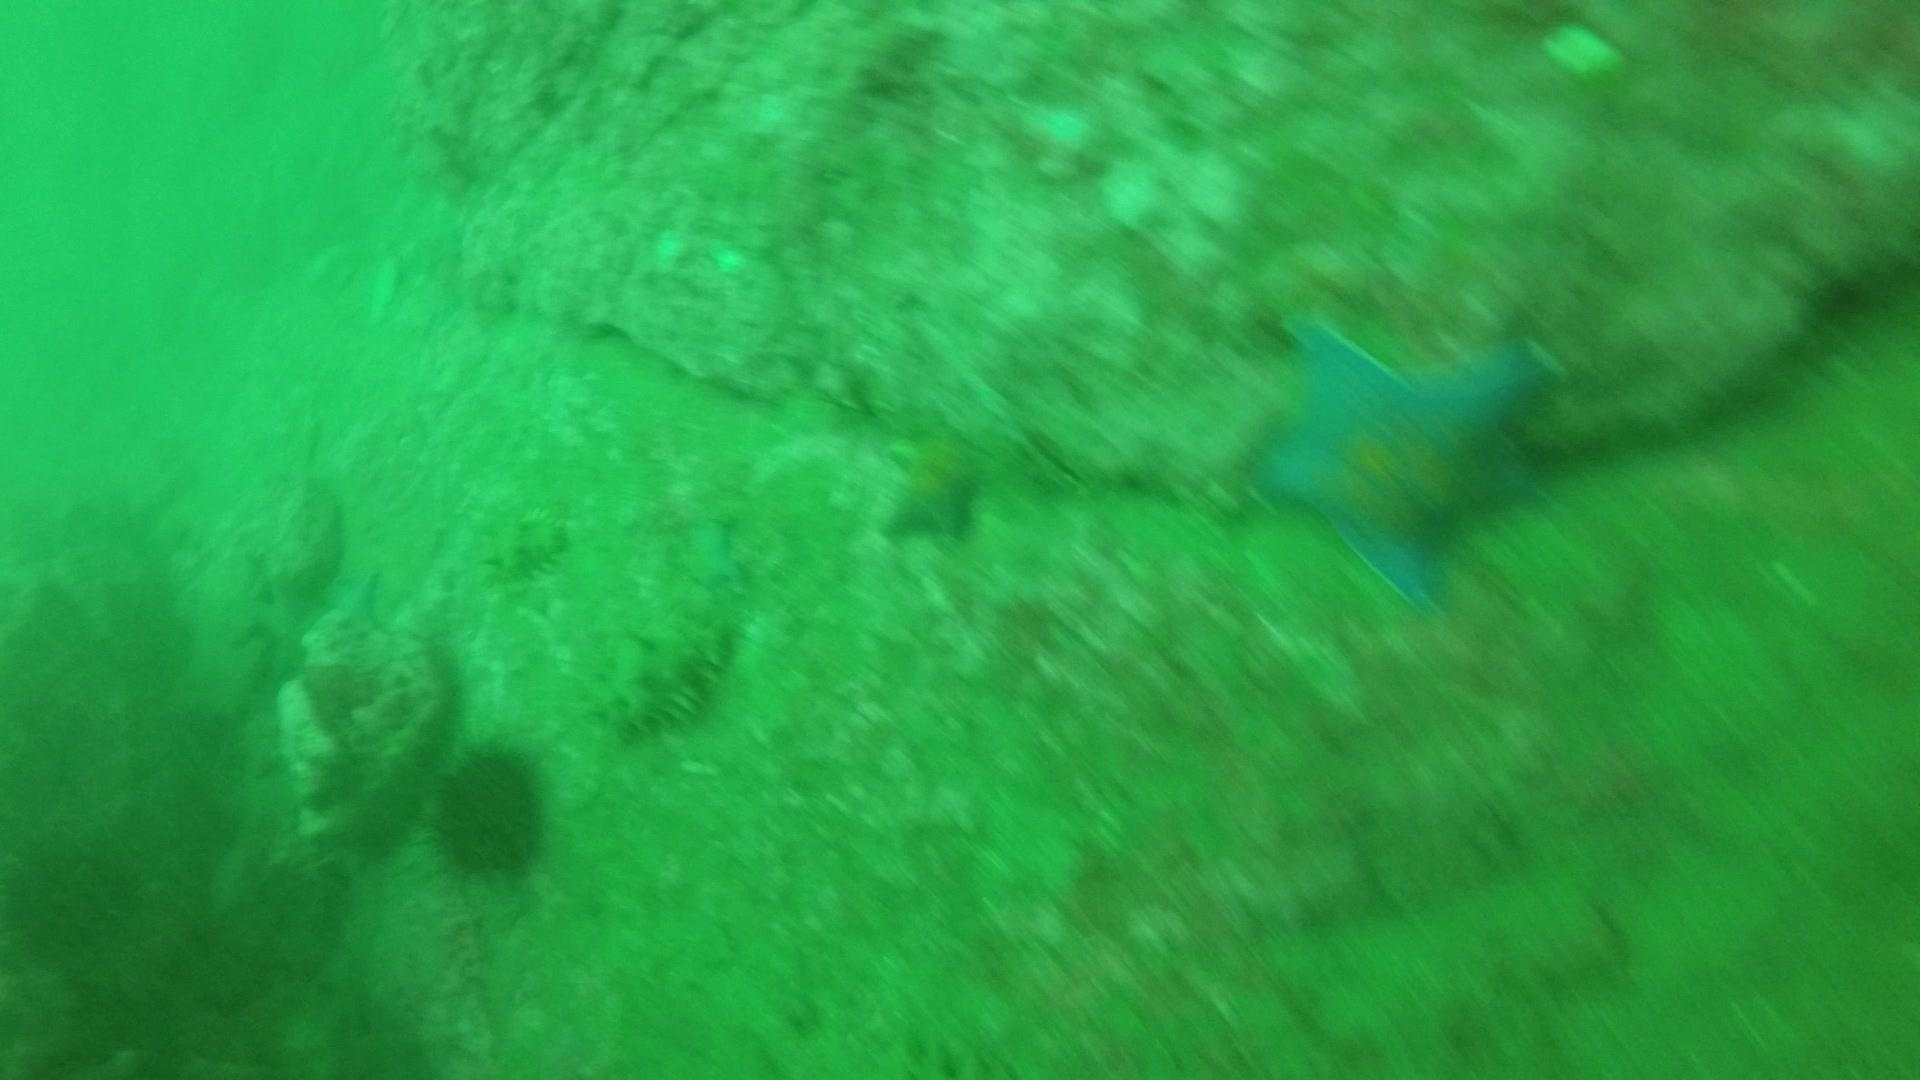echinus: (422, 738, 556, 887)
holothurian: (593, 593, 742, 744), (467, 495, 584, 595)
starfish: (1247, 301, 1567, 618), (872, 415, 996, 549)
